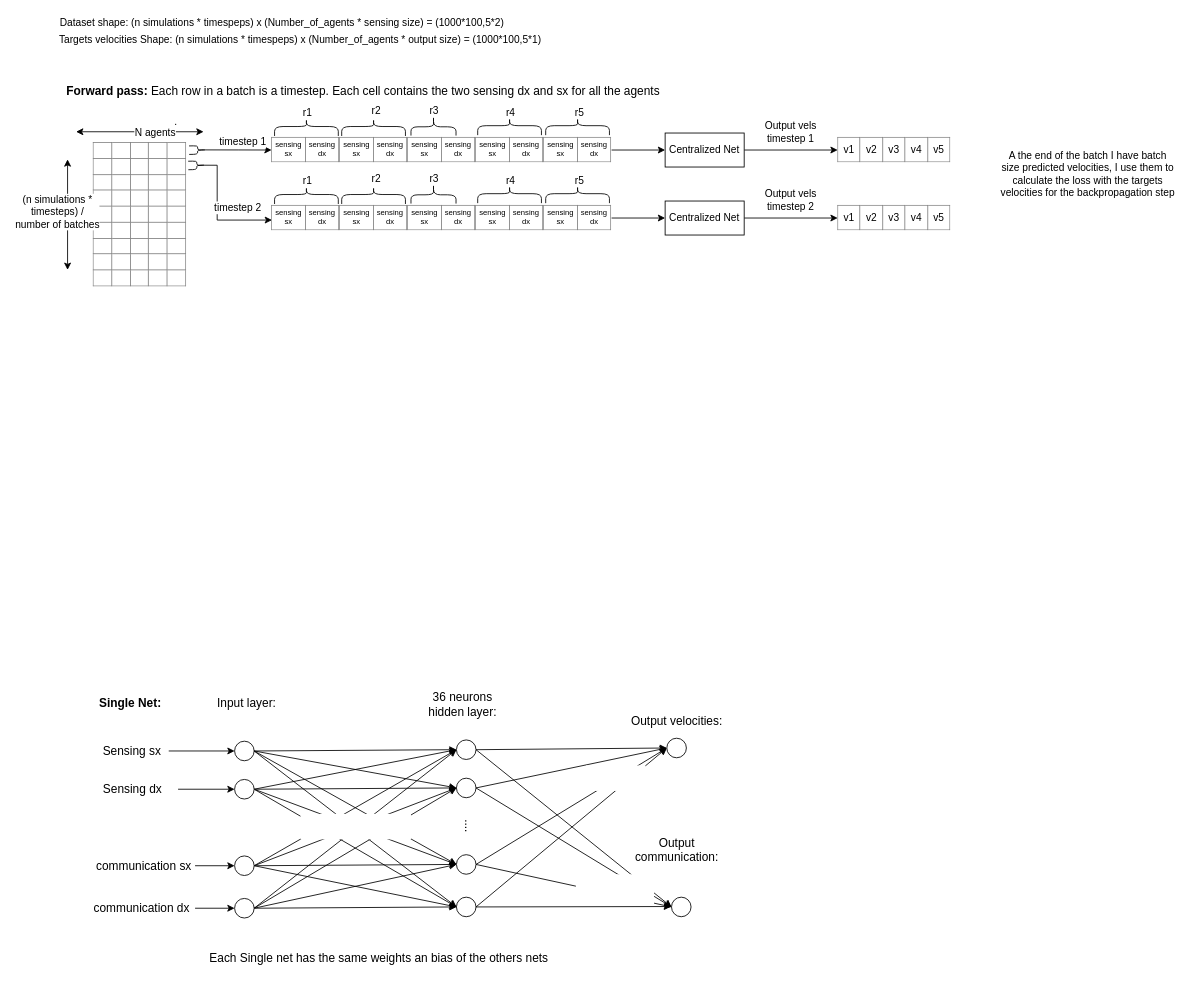
The diagram is 1191 pixels wide and 981 high, and some of its shapes have lost their labels. The centre of each missing label's shape, as x and y in pixels:
"Weight: W Bias: b" belongs at point 615,777.
"Weight: W_c Bias: b_c" belongs at point 614,895.
"Weight: W_h Bias: b_h" belongs at point 355,826.
